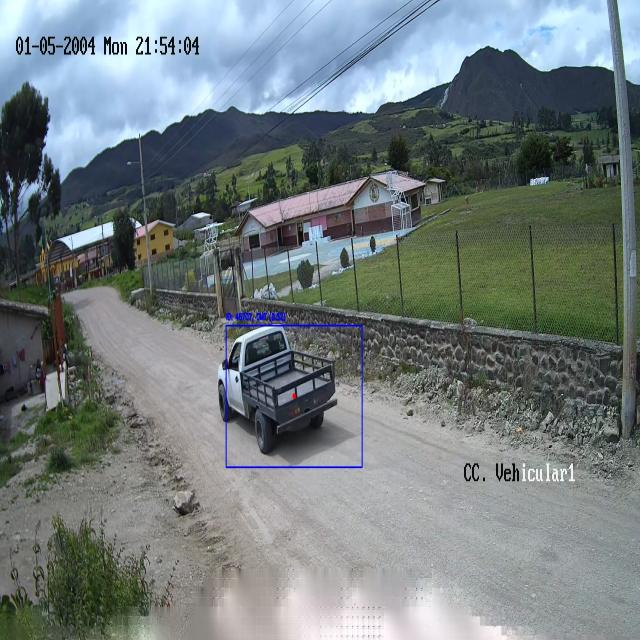CMT: (212, 325, 338, 446)
